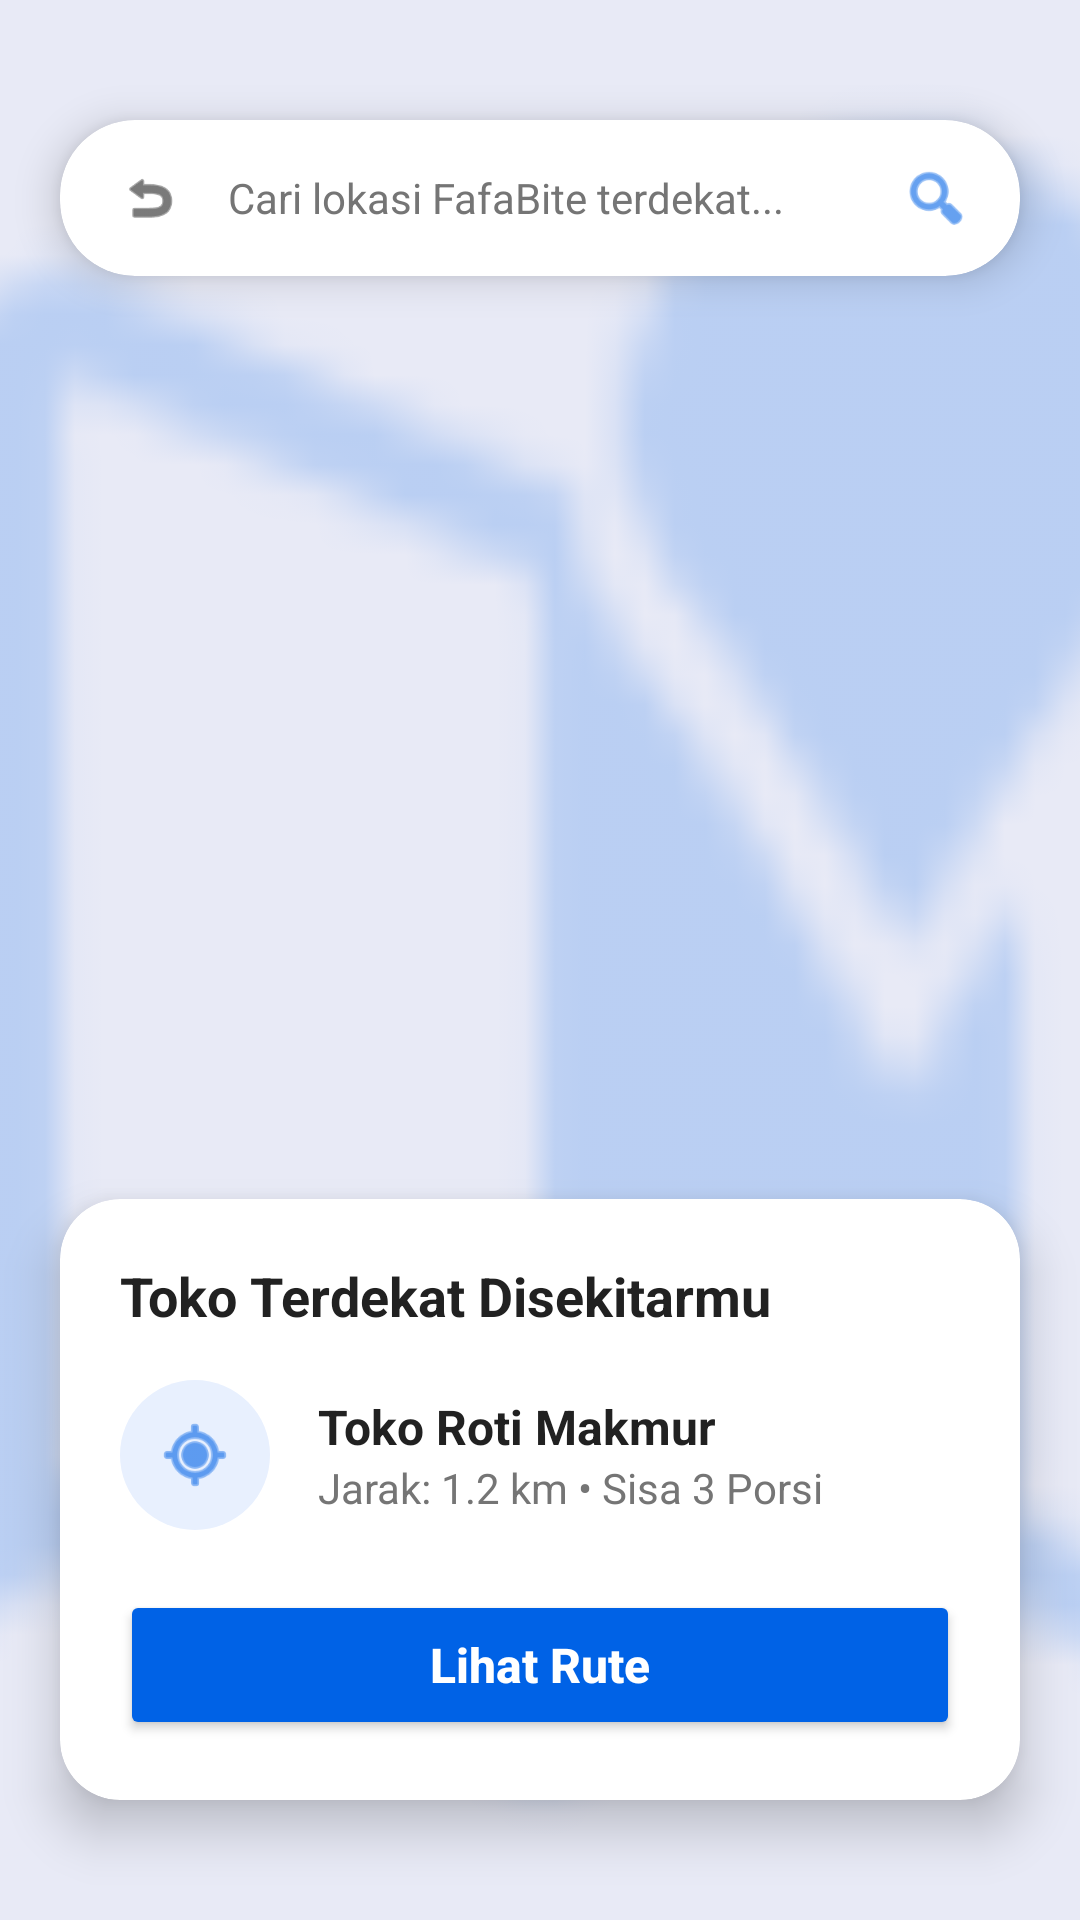

Where to tap for icons on this 1080px x 1920px app screen, as [x,y]:
mylocation: [195,1455]
revert: [150,198]
search: [936,198]
